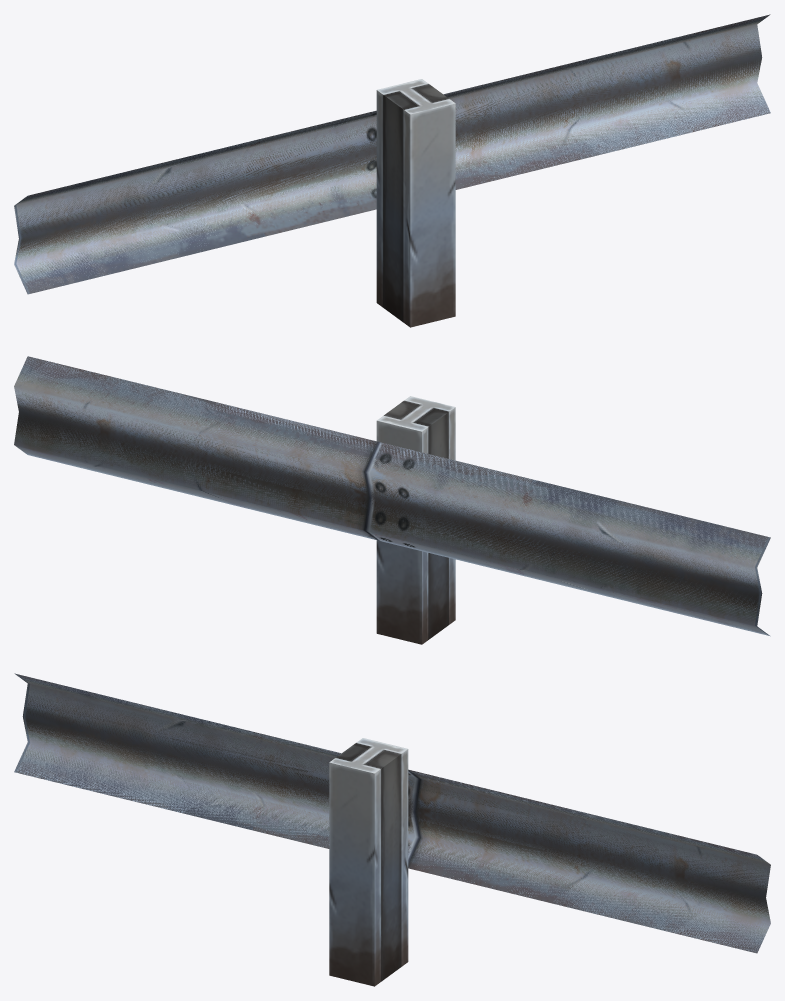
The model's file is guardRail_3m_A.fbx.
The picture shows the model from 3 angles, top to bottom: view 1: azimuth 30°, elevation 25°; view 2: azimuth 150°, elevation 25°; view 3: azimuth 330°, elevation 25°; orthographic projection.
Parts seen in each view (by area): view 1: guardRail_3m_A; view 2: guardRail_3m_A; view 3: guardRail_3m_A.
Boxes of the visible parts, left/top/right/bottom form: guardRail_3m_A: left=14, top=14, right=770, bottom=327; guardRail_3m_A: left=14, top=356, right=770, bottom=644; guardRail_3m_A: left=14, top=673, right=770, bottom=986.
Bounding box in the file's own units: 300 × 82.17 × 33.12.
